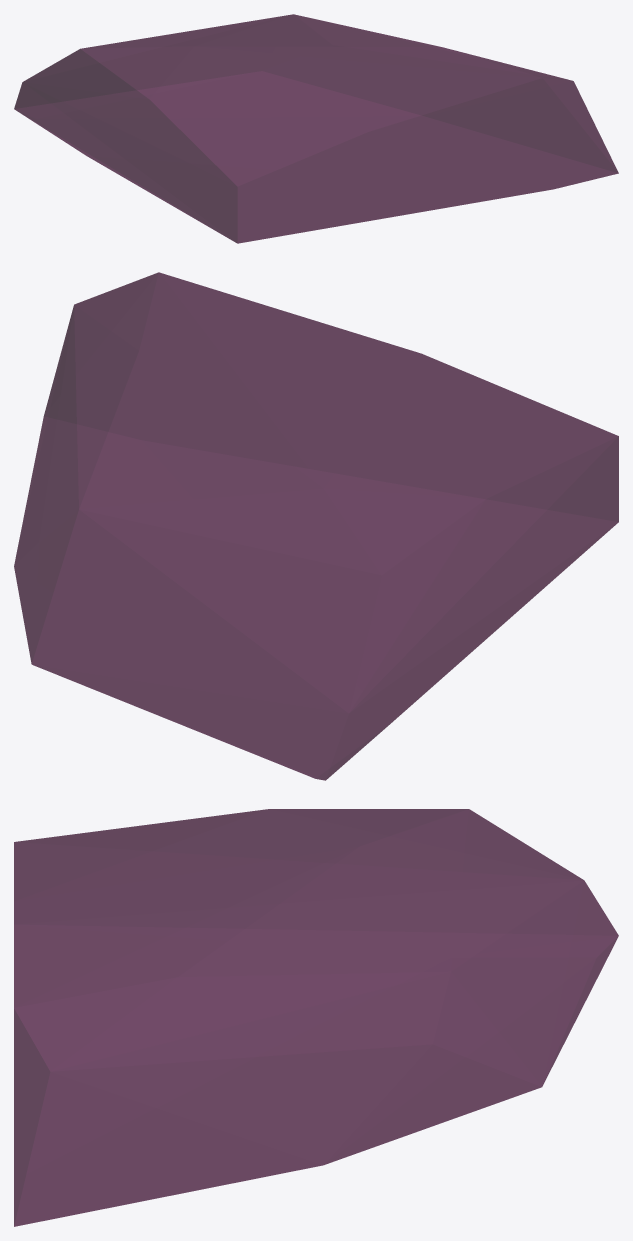
3 renders of one model, top to bottom at view 1: azimuth 30°, elevation 25°; view 2: azimuth 150°, elevation 25°; view 3: azimuth 270°, elevation 25°, orthographic. The views are drawn at different scales.
Visible parts, largest first — view 1: Shape_IndexedFaceSet.009_Shape_IndexedFaceSet.6272; view 2: Shape_IndexedFaceSet.009_Shape_IndexedFaceSet.6272; view 3: Shape_IndexedFaceSet.009_Shape_IndexedFaceSet.6272.
Part boxes in pixels (<box>): Shape_IndexedFaceSet.009_Shape_IndexedFaceSet.6272: <box>14,14,618,243</box>; Shape_IndexedFaceSet.009_Shape_IndexedFaceSet.6272: <box>14,272,618,780</box>; Shape_IndexedFaceSet.009_Shape_IndexedFaceSet.6272: <box>14,809,618,1226</box>.
Bounding box in the file's own units: 0.0871 × 0.0238 × 0.0789.
